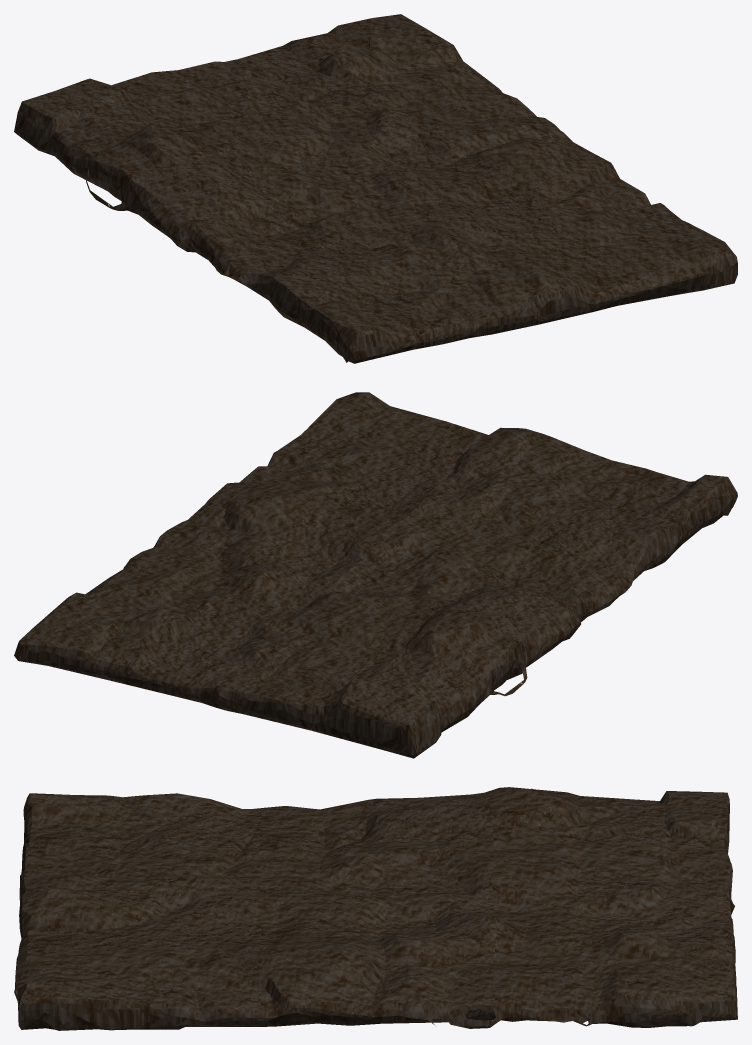
The model's file is cave-floor2.glb.
3 renders of one model, top to bottom at view 1: azimuth 30°, elevation 25°; view 2: azimuth 150°, elevation 25°; view 3: azimuth 270°, elevation 25°, orthographic. The views are drawn at different scales.
Visible parts, largest first — view 1: Cube.001; view 2: Cube.001; view 3: Cube.001.
Part boxes in pixels (x1,y1,x2,y2): Cube.001: (14,14,737,363); Cube.001: (14,392,737,758); Cube.001: (14,787,737,1030).
Size of the model in its own units: 8.39 by 1.11 by 12.
Materials: 1 (1 with a texture image).
